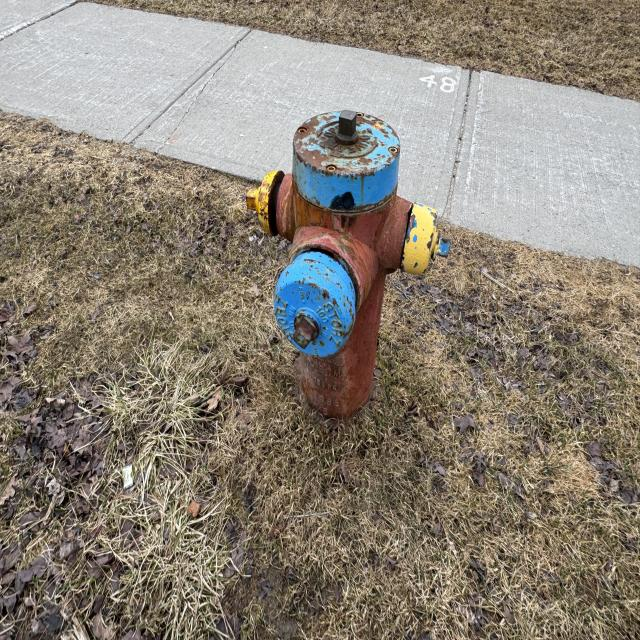Fire hydrant: (245, 108, 452, 428)
